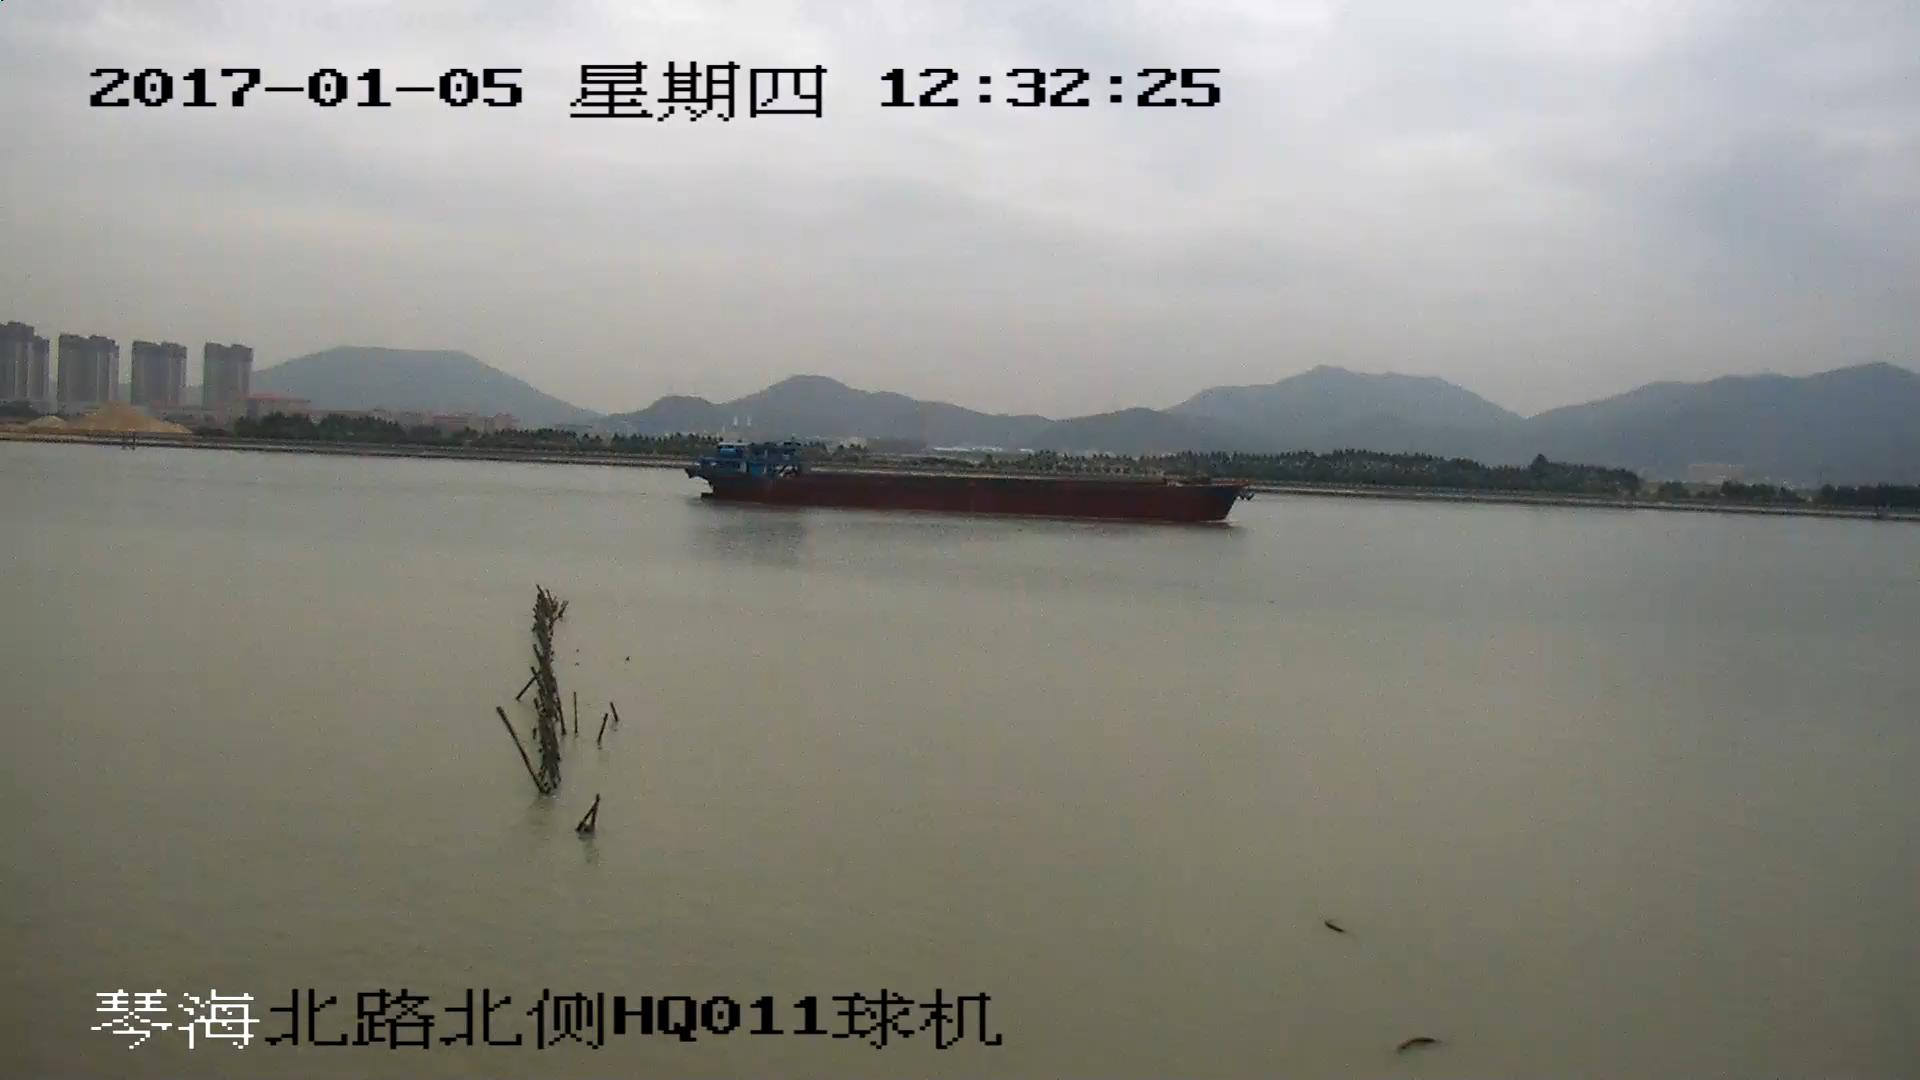bulk cargo carrier: (688, 441, 1250, 523)
